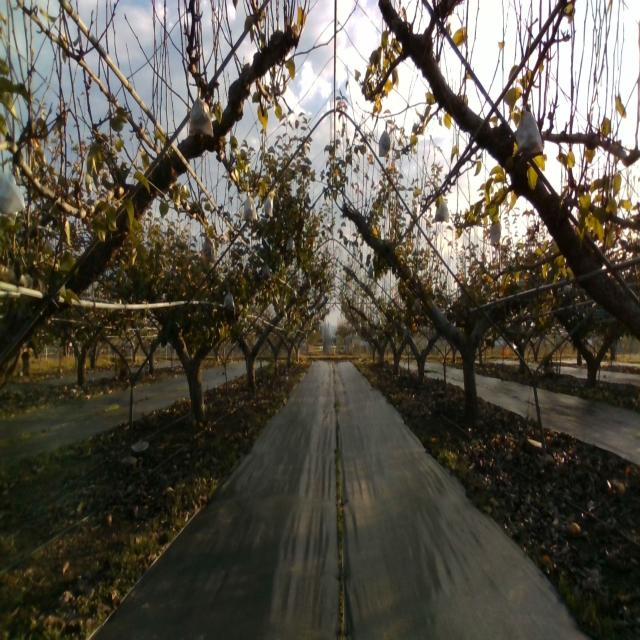pearbags: (514, 105, 543, 158), (189, 87, 214, 138), (0, 169, 26, 216), (378, 122, 391, 157), (243, 192, 258, 222), (202, 232, 216, 263), (434, 199, 449, 223), (490, 220, 501, 246), (223, 288, 235, 310), (264, 193, 273, 218)
